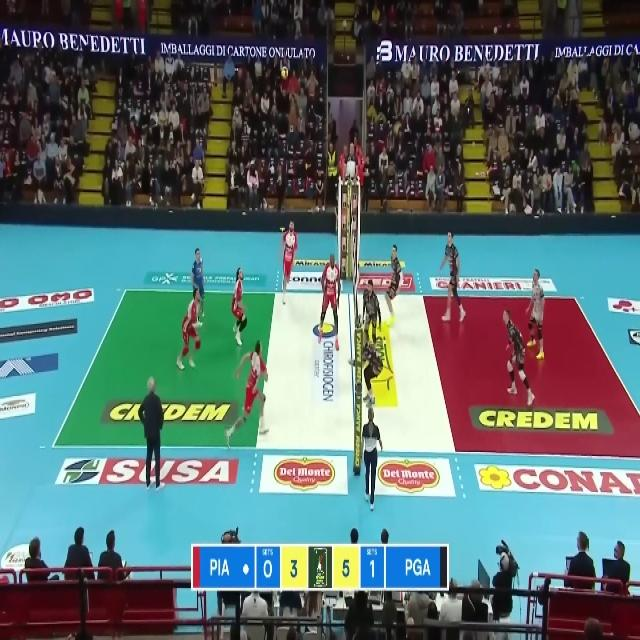volleyball court: (53, 288, 640, 460)
